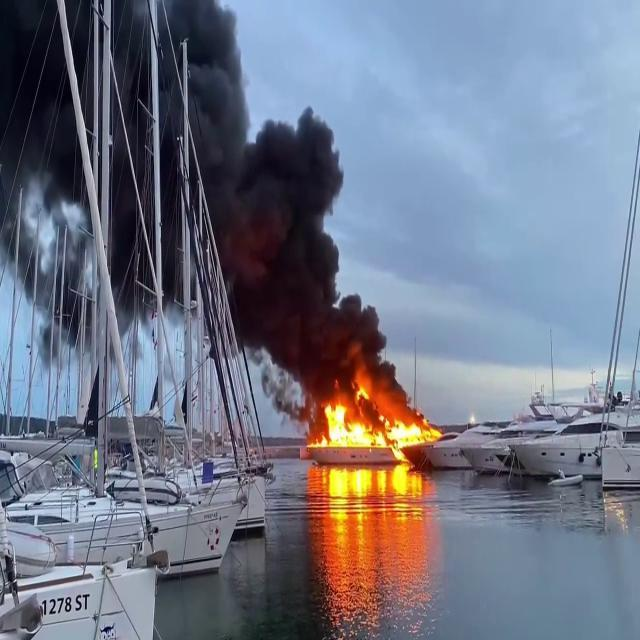Fire: (316, 385, 436, 455)
Smoke: (0, 0, 388, 379)
